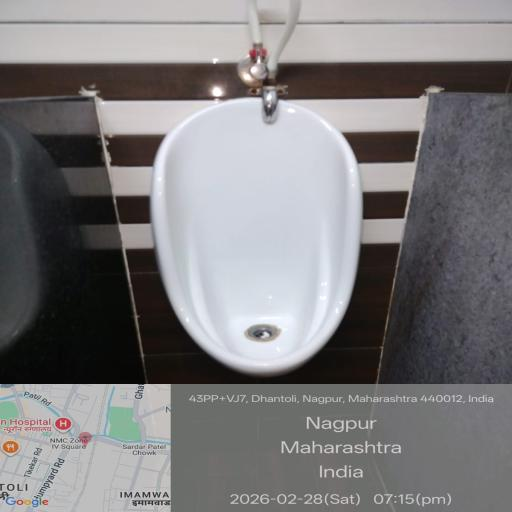clean_floor: (3, 12, 171, 487), (182, 399, 512, 512)
clean_urinal: (142, 90, 390, 388)
